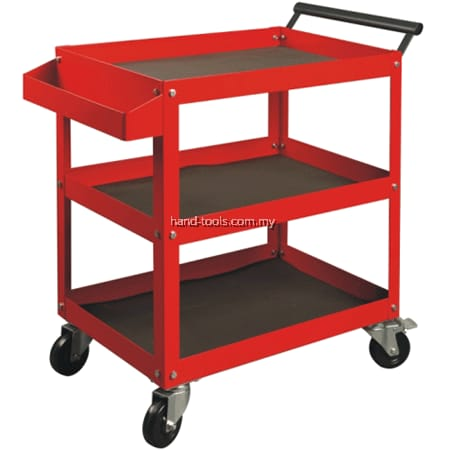Carts: (20, 1, 424, 449)
